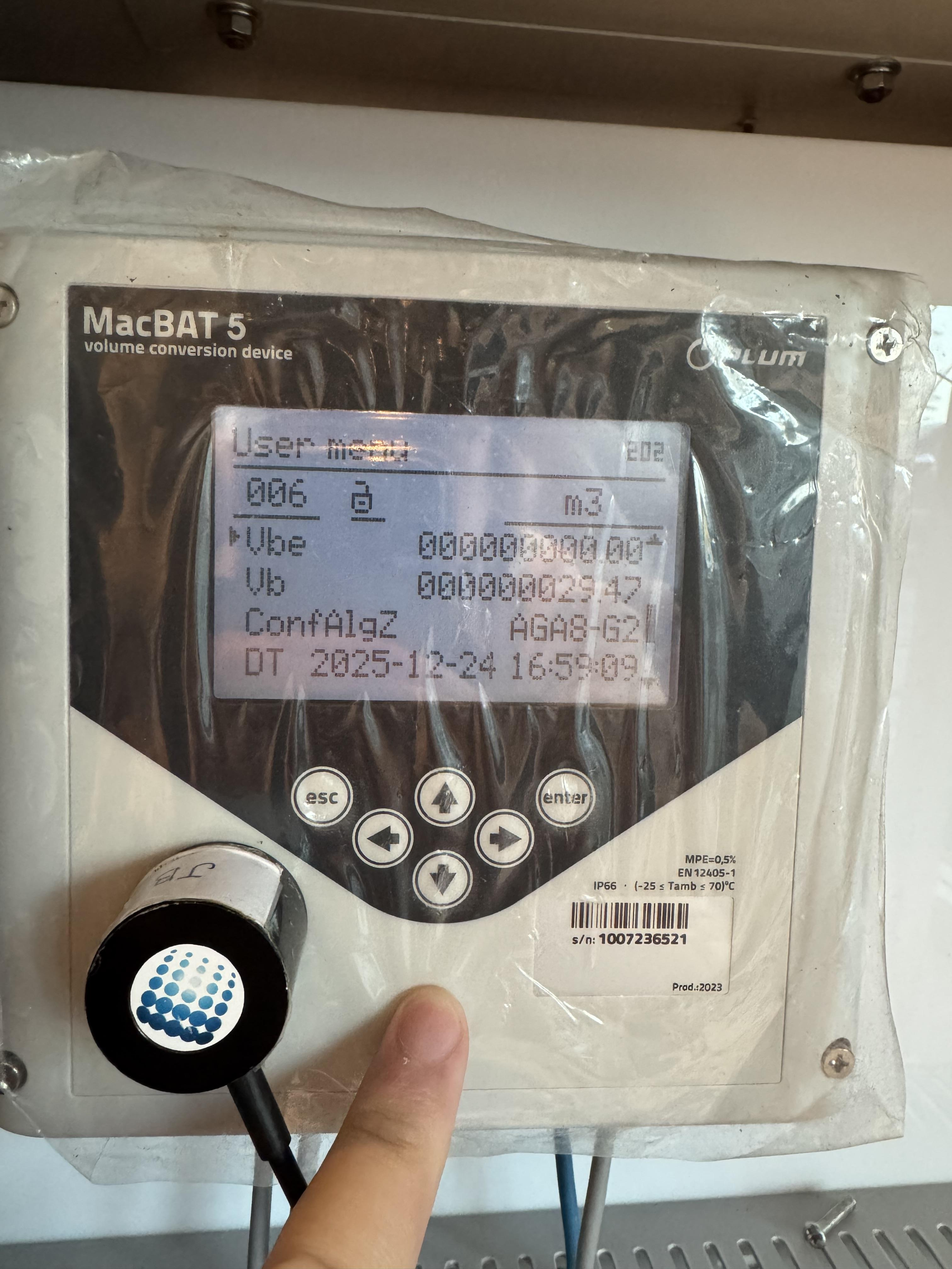digital_screen: (208, 408, 689, 707)
